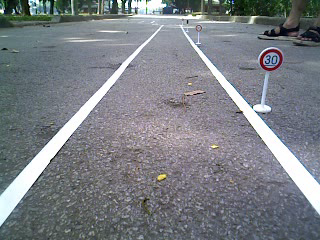limit 30: (257, 45, 284, 74)
